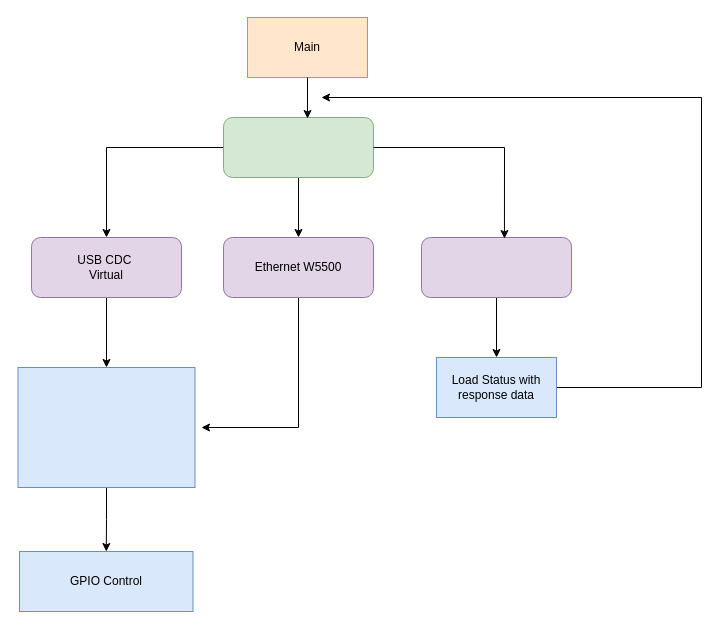
The diagram is 727 pixels wide and 629 high, and some of its shapes have lost their labels. Here are the shapes that lost their labels. From the top down, the centre of each, then its label:
[298,147]: Process
[496,267]: CT - Trsnformer
[106,427]: AC Socket Control
